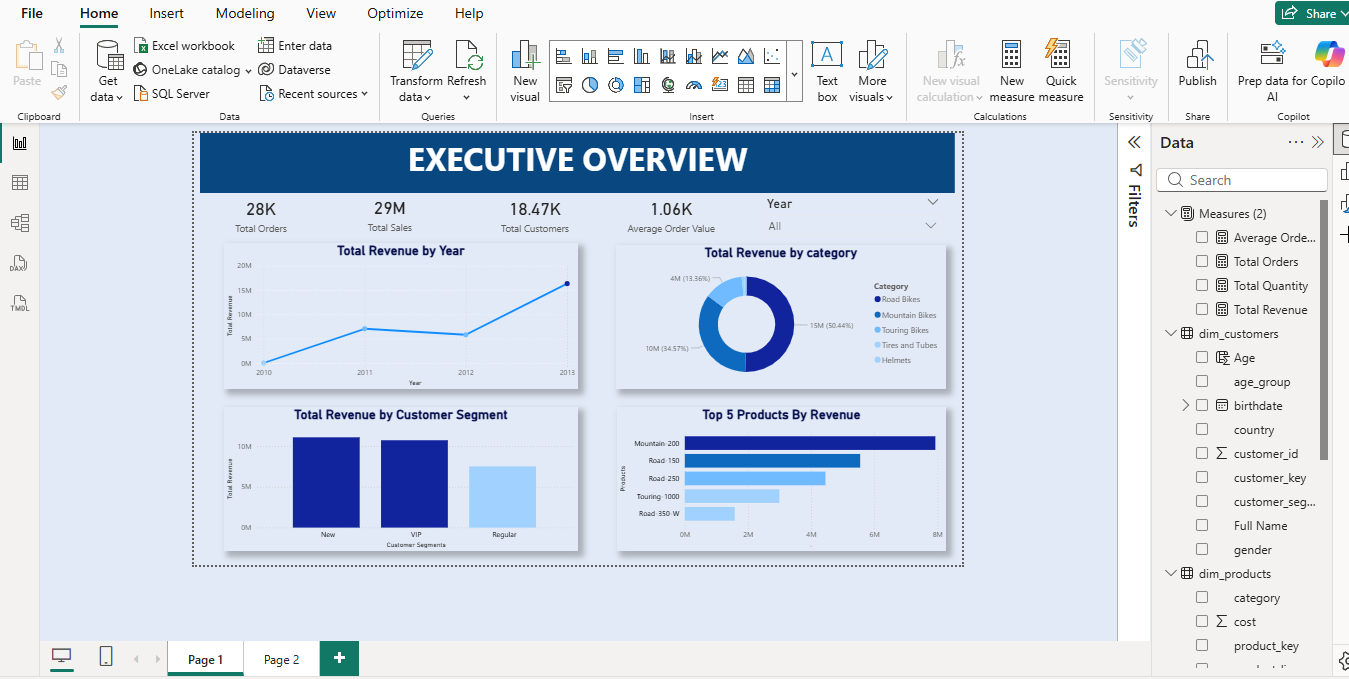

What the dashboard file says about the page in this screenshot:
{"tool":"powerbi","page":{"name":"Page 1","canvas":[1280,720],"ordinal":0},"visuals":[{"type":"card","fields":{"Values":["dim_customers.Total Revenue"]},"box":[209.2,87.6,236,89.4],"z":0},{"type":"card","fields":{"Values":["Measures (2).Total Orders"]},"box":[0,91.2,223.5,85.8],"z":1000},{"type":"lineChart","title":"Total Revenue by Year","fields":{"Y":["Measures (2).Total Revenue"],"Category":["fact_sales.order_date.Variation.Date Hierarchy.Year","fact_sales.order_date.Variation.Date Hierarchy.Quarter","fact_sales.order_date.Variation.Date Hierarchy.Month"]},"box":[50.1,184.1,589.9,243.1],"z":2000},{"type":"donutChart","title":"Total Revenue by category","fields":{"Category":["dim_products.subcategory"],"Y":["Measures (2).Total Revenue"]},"box":[703.3,186.7,550,240],"z":3000},{"type":"card","fields":{"Values":["Count(dim_customers.customer_id)"]},"box":[445.1,91.2,246.7,85.8],"z":4000},{"type":"card","fields":{"Values":["Measures (2).Average Order Value"]},"box":[679.3,91.2,230.6,85.8],"z":5000},{"type":"clusteredColumnChart","title":"Total Revenue by Customer Segment","fields":{"Category":["dim_customers.customer_segment"],"Y":["Measures (2).Total Revenue"]},"box":[50,456.7,590,240],"z":6000},{"type":"clusteredBarChart","title":"Top 5 Products By Revenue","fields":{"Y":["Sum(fact_sales.sales_amount)"],"Category":["dim_products.product_name.1"]},"box":[705,456.7,548.3,240],"z":7000},{"type":"textbox","box":[10,0,1258.3,100],"z":8000},{"type":"slicer","fields":{"Values":["fact_sales.shipping_date.Variation.Date Hierarchy.Year"]},"box":[941.7,100,311.7,80],"z":9000}]}

Visuals, with their boxes on the page's 1280x720 design canvas (x1, y1, x2, y2). These are canvas units, not pixel positions in the 1349x679 screenshot, which may show the page scaled, cropped or inside an application window:
card - dim_customers.Total Revenue: 209 88 445 177
card - Measures (2).Total Orders: 0 91 224 177
"Total Revenue by Year" lineChart: 50 184 640 427
"Total Revenue by category" donutChart: 703 187 1253 427
card - Count(dim_customers.customer_id): 445 91 692 177
card - Measures (2).Average Order Value: 679 91 910 177
"Total Revenue by Customer Segment" clusteredColumnChart: 50 457 640 697
"Top 5 Products By Revenue" clusteredBarChart: 705 457 1253 697
textbox: 10 0 1268 100
slicer - fact_sales.shipping_date.Variation.Date Hierarchy.Year: 942 100 1253 180
